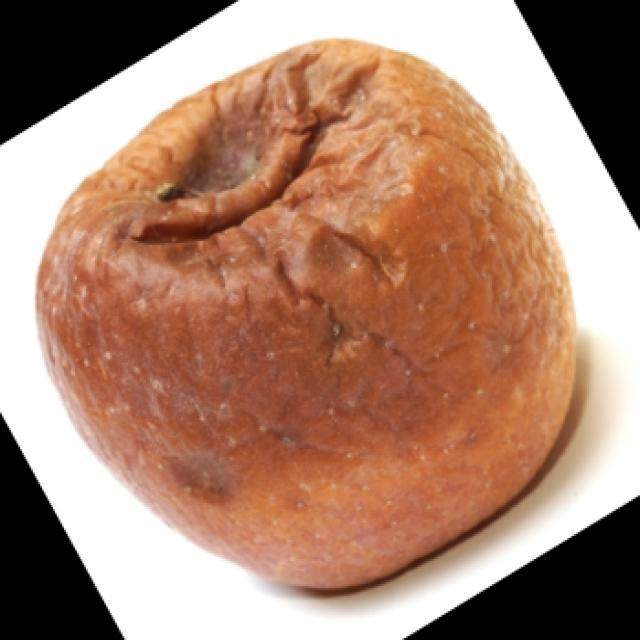Rotten: (33, 47, 592, 605)
